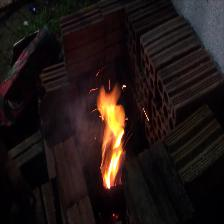fire: (83, 65, 156, 196)
